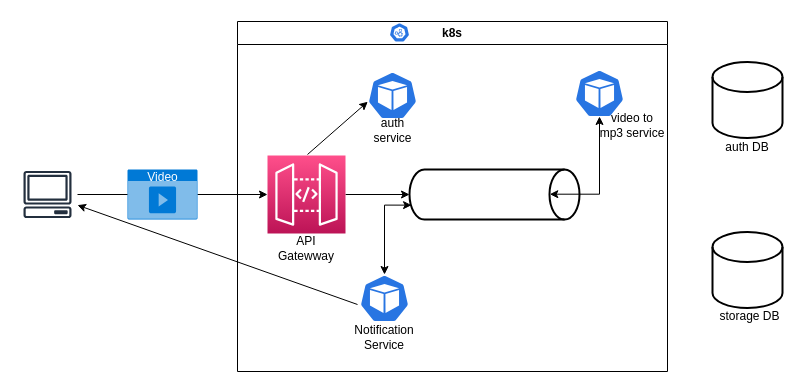
This 801x389 diagram has some shape labels left out. Each missing label, with the box of its shape:
Client: (16, 164, 78, 224)
queue: (408, 168, 580, 220)
